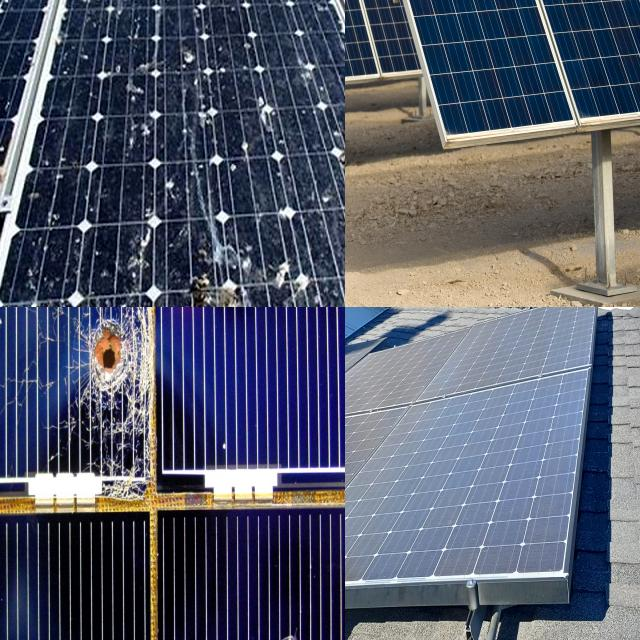bird: (119, 191, 170, 291), (183, 271, 257, 307), (0, 157, 30, 215), (322, 145, 345, 180)
crack: (349, 0, 582, 187), (465, 0, 640, 198), (345, 0, 417, 134), (345, 0, 416, 122), (345, 0, 407, 127)
dust: (354, 403, 466, 508), (484, 372, 580, 494), (452, 502, 566, 575), (345, 359, 447, 423), (345, 513, 446, 568), (480, 319, 591, 359), (345, 425, 392, 511), (345, 521, 398, 577), (345, 505, 377, 587), (345, 373, 379, 418), (345, 434, 368, 489)
hotspot: (253, 592, 322, 640), (0, 385, 35, 476)
shadow: (56, 307, 163, 433)
